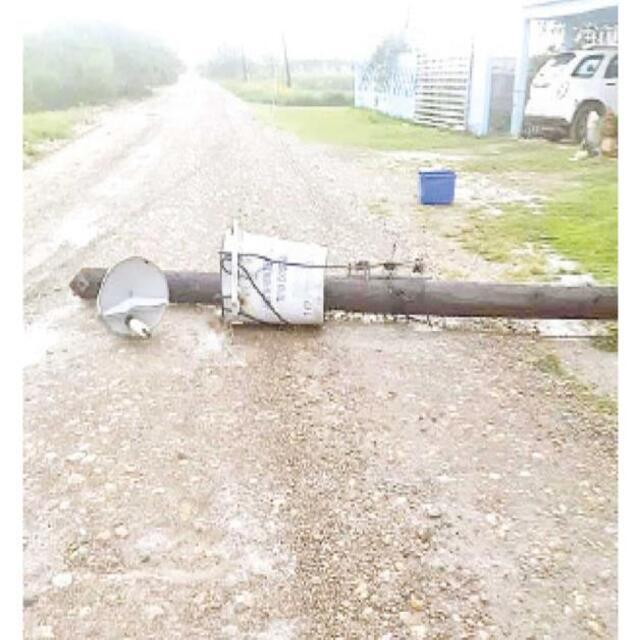Inclined Pole: (58, 216, 620, 364)
